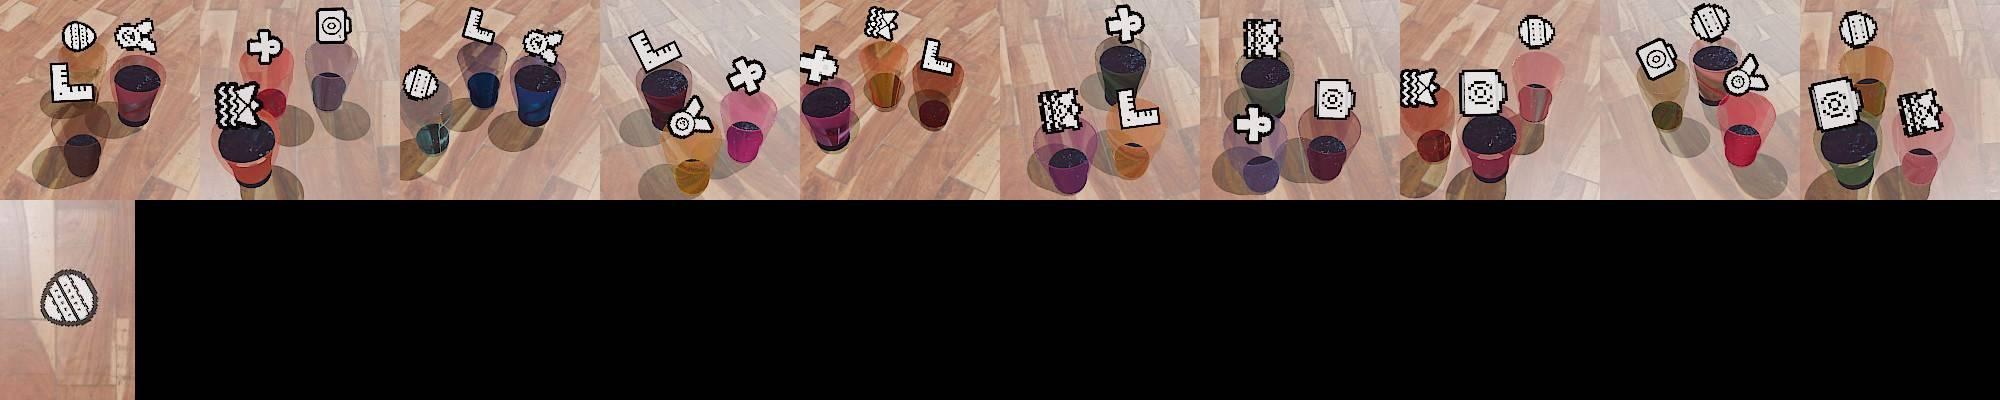icon: (38, 269, 100, 328), (1808, 77, 1864, 131), (1458, 68, 1509, 117), (213, 80, 264, 129), (627, 29, 684, 72), (1896, 89, 1943, 138), (1037, 87, 1082, 135), (1114, 85, 1161, 130), (49, 61, 97, 105), (1722, 52, 1768, 96), (670, 92, 714, 137), (1635, 37, 1679, 82), (1242, 17, 1283, 61), (1315, 78, 1355, 122), (521, 26, 565, 65), (1105, 3, 1145, 45), (1400, 68, 1440, 110), (1689, 2, 1731, 42), (114, 19, 158, 56), (799, 44, 839, 84), (726, 56, 767, 95), (1837, 11, 1877, 50), (1235, 105, 1274, 144), (918, 36, 955, 77), (462, 6, 498, 47), (246, 28, 284, 66), (1518, 14, 1557, 51), (402, 65, 440, 101), (315, 6, 350, 45), (864, 5, 900, 42), (61, 21, 97, 53)
